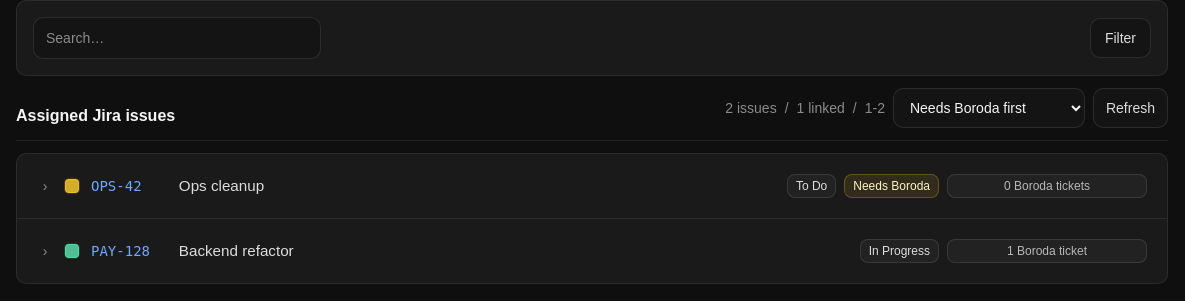
Scenario: JiraPage › filters Jira issues from the search field
Type "ops" into the search field labelled "Search". click: (177, 38)
box: [33,17,321,59]
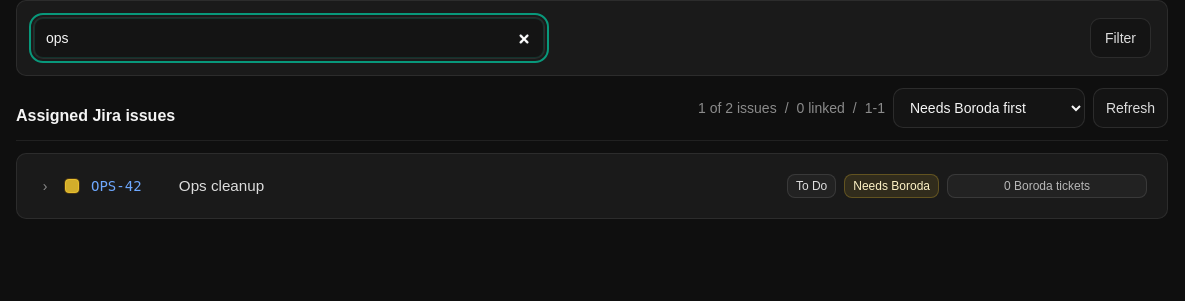
Check: the link with aria-label "Open Jira issue OPS-42" is shown, box [91,178,142,194]
Check: the text "1 of 2 issues" is shown, box [698,98,777,118]
